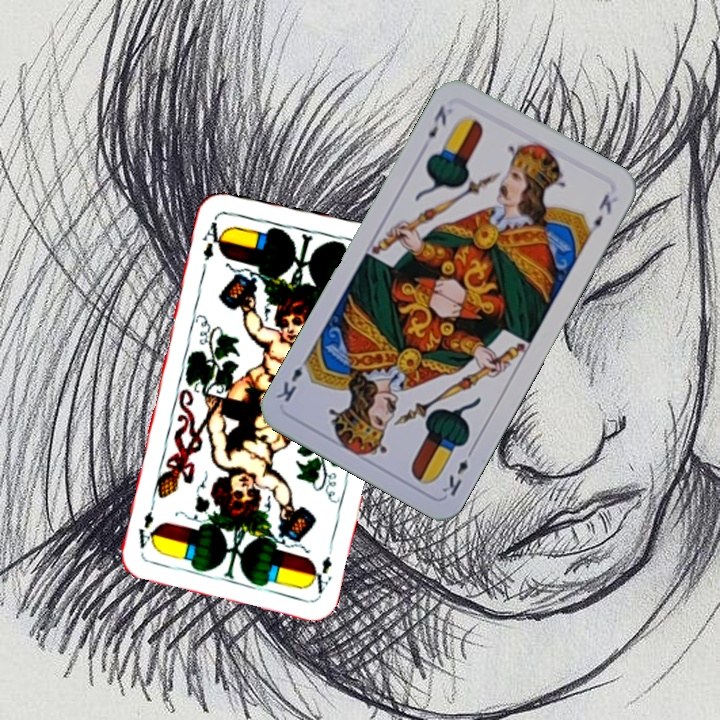EA: (305, 539, 336, 596), (198, 213, 228, 264)
EK: (438, 443, 477, 499), (424, 101, 449, 141)
